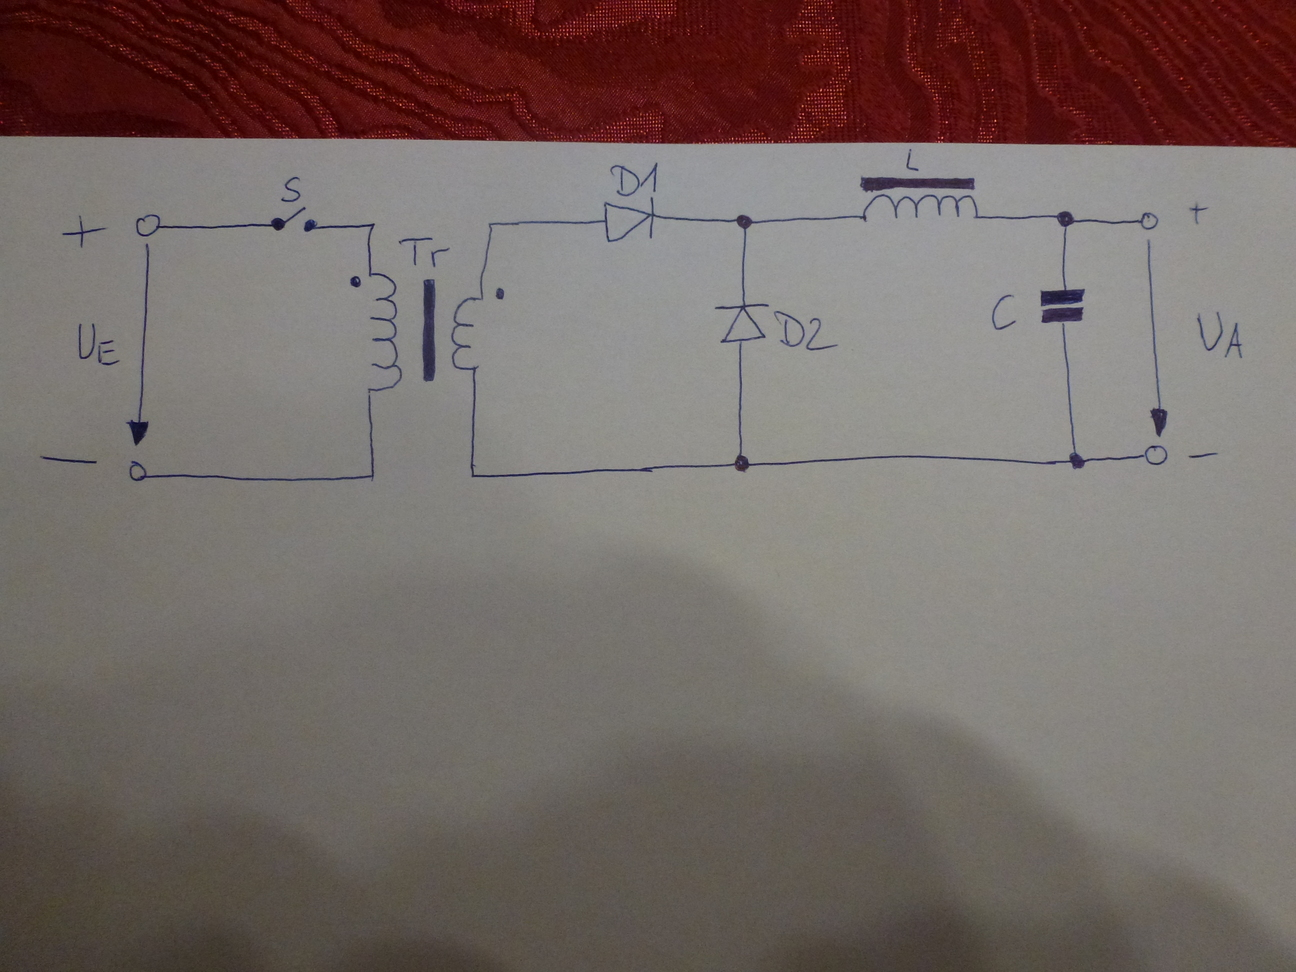capacitor.unpolarized: (1035, 284, 1092, 331)
diode: (712, 296, 772, 345), (601, 195, 657, 245)
inductor: (854, 171, 982, 225)
junction: (730, 209, 757, 235), (1064, 446, 1090, 472), (361, 461, 383, 488), (1052, 207, 1077, 230), (730, 450, 752, 474), (465, 466, 481, 483), (362, 218, 378, 234), (484, 218, 499, 233)
switch: (269, 204, 318, 233)
terminal: (130, 211, 164, 241), (122, 458, 150, 486), (1142, 441, 1170, 466), (1135, 208, 1160, 233)
text: (771, 308, 841, 353), (1193, 307, 1247, 359), (72, 319, 121, 368), (608, 158, 660, 198), (396, 232, 453, 268), (988, 290, 1020, 333), (276, 172, 305, 204), (902, 146, 925, 173)
transformer: (344, 269, 509, 396)
